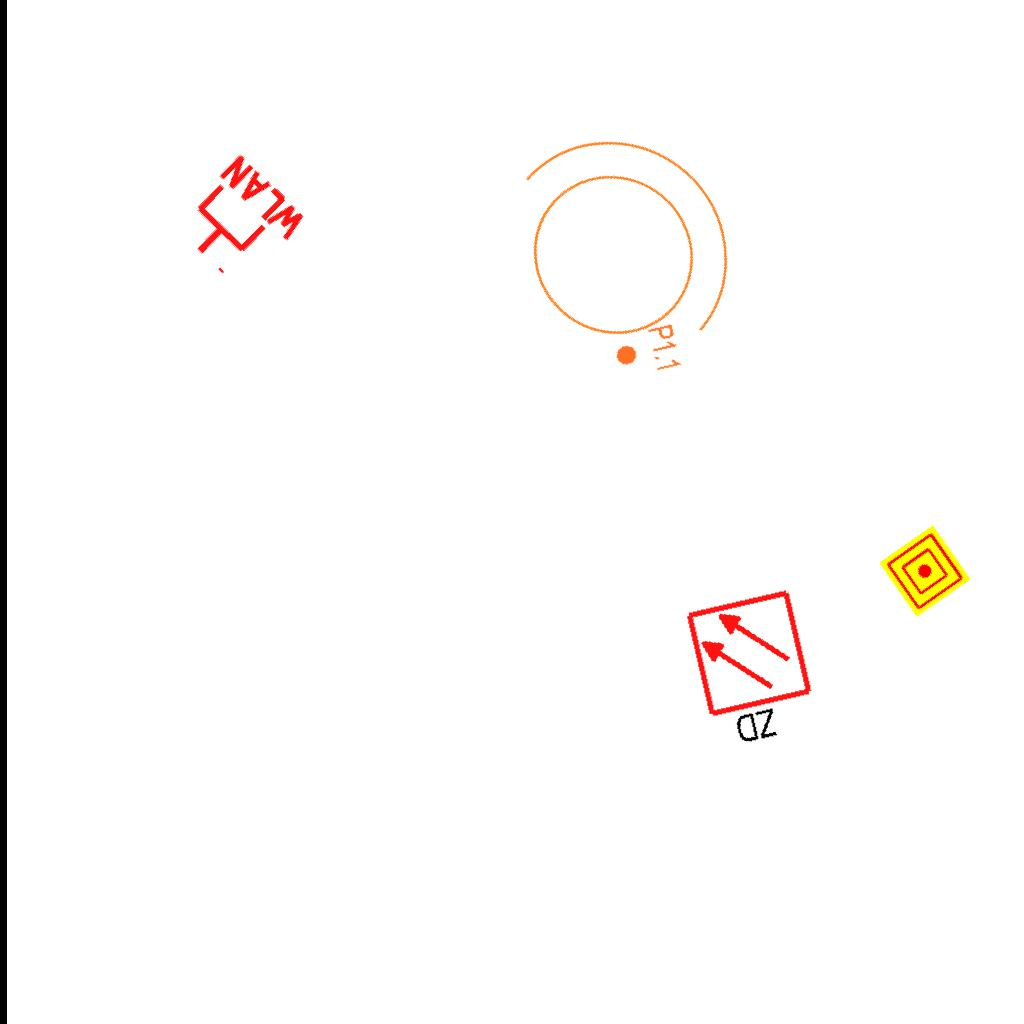Downlight_LED_Einbauleuchten_Flur: (610, 322, 684, 382)
NAM-Nichtautomatischer_Melder: (879, 525, 971, 617)
Scheinwerfer_fuer_Alarmbeleuchtung: (441, 71, 789, 416)
WLAN: (165, 149, 314, 297)
ZD_Melder_in_Zwischendecke_mit_Revisionsoeffnung_mind_40_x_40_cm: (682, 586, 828, 757)
